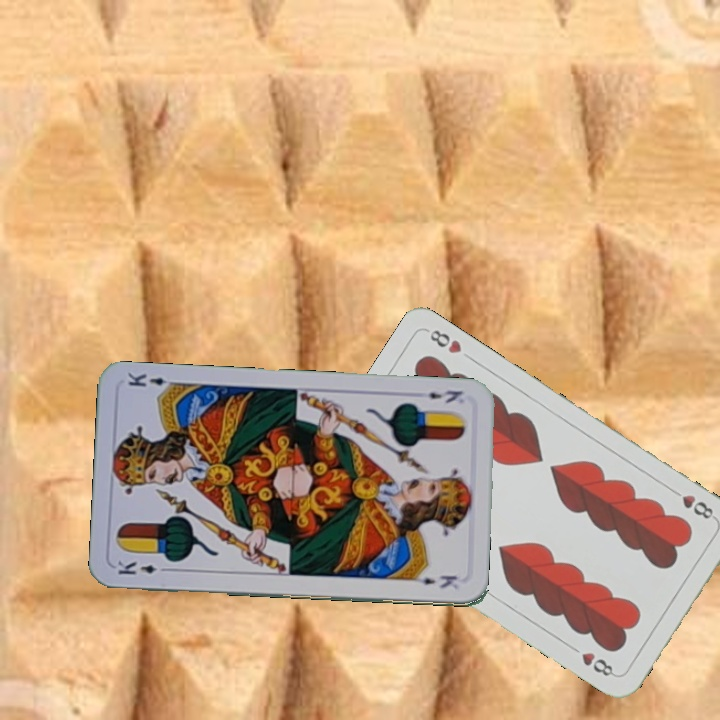EK: (113, 557, 172, 577), (424, 386, 465, 406)
H8: (666, 484, 719, 523)
